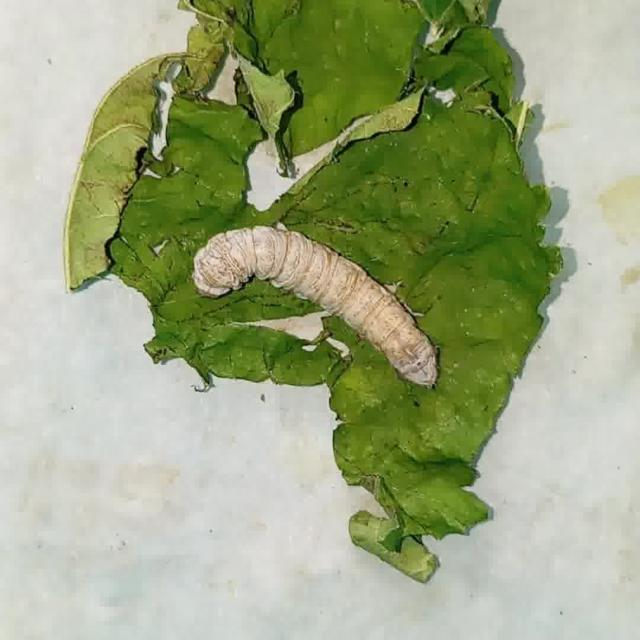Grasserie: (190, 214, 446, 402)
